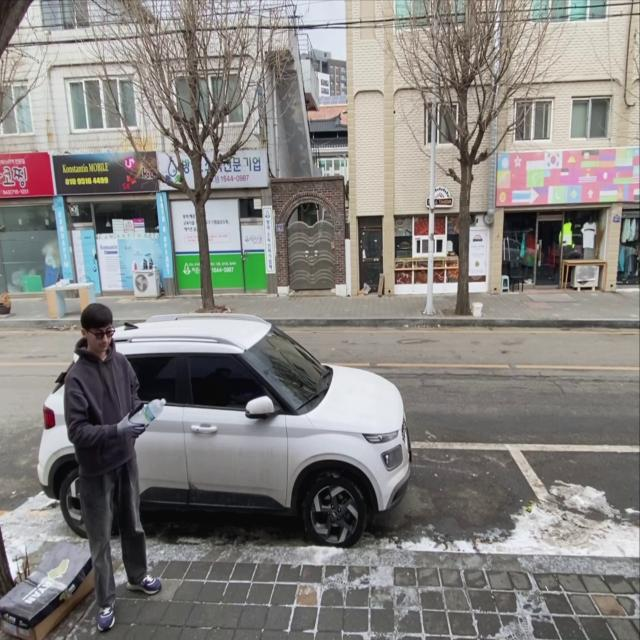gloved_hand: (114, 409, 145, 437)
